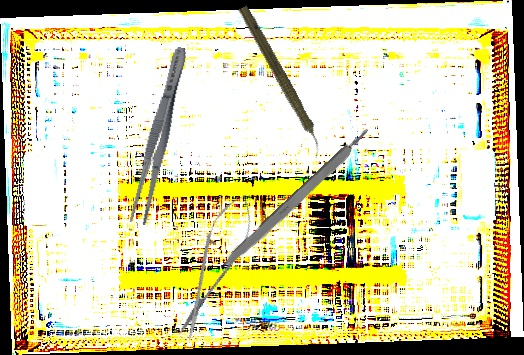Dressing Forceps: (126, 44, 193, 227)
Handpiece: (232, 3, 331, 160)
Micro Scissor: (165, 186, 264, 346)
Scalpel Handle: (216, 124, 377, 276)
